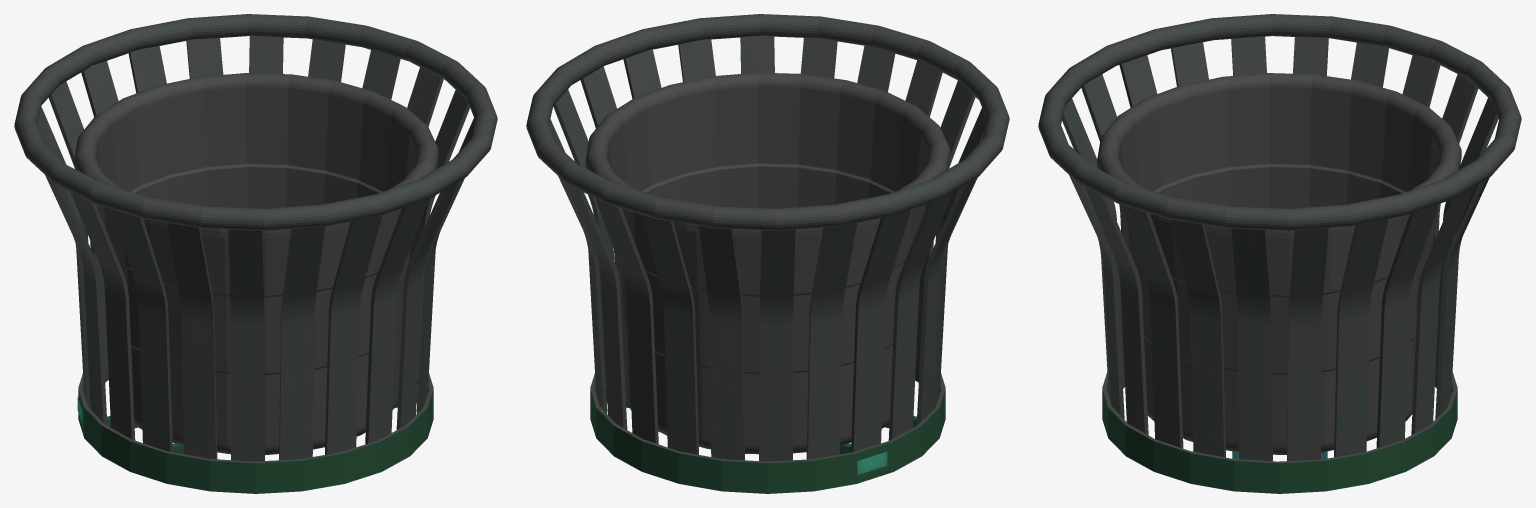
3 renders of one model, left to right at view 1: azimuth 30°, elevation 25°; view 2: azimuth 150°, elevation 25°; view 3: azimuth 270°, elevation 25°, orthographic.
Visible parts, largest first — view 1: mesh1.001_mesh1-geometry, mesh7.001_mesh7-geometry, mesh14.001_mesh14-geometry, mesh18.001_mesh18-geometry, mesh6.001_mesh6-geometry, mesh24.001_mesh24-geometry, mesh27.001_mesh27-geometry, mesh26.001_mesh26-geometry, mesh29.001_mesh29-geometry, mesh25.001_mesh25-geometry, mesh28.001_mesh28-geometry, mesh13.001_mesh13-geometry (+12 smaller); view 2: mesh1.001_mesh1-geometry, mesh7.001_mesh7-geometry, mesh14.001_mesh14-geometry, mesh11.001_mesh11-geometry, mesh17.001_mesh17-geometry, mesh9.001_mesh9-geometry, mesh4.001_mesh4-geometry, mesh16.001_mesh16-geometry, mesh20.001_mesh20-geometry, mesh13.001_mesh13-geometry, mesh10.001_mesh10-geometry, mesh25.001_mesh25-geometry (+12 smaller); view 3: mesh1.001_mesh1-geometry, mesh7.001_mesh7-geometry, mesh14.001_mesh14-geometry, mesh22.001_mesh22-geometry, mesh12.001_mesh12-geometry, mesh23.001_mesh23-geometry, mesh15.001_mesh15-geometry, mesh21.001_mesh21-geometry, mesh5.001_mesh5-geometry, mesh28.001_mesh28-geometry, mesh10.001_mesh10-geometry, mesh20.001_mesh20-geometry (+13 smaller).
Boxes of the visible parts, <box> form: mesh1.001_mesh1-geometry: <box>74,73,438,454</box>; mesh7.001_mesh7-geometry: <box>14,14,497,230</box>; mesh14.001_mesh14-geometry: <box>78,367,433,493</box>; mesh18.001_mesh18-geometry: <box>228,229,264,461</box>; mesh6.001_mesh6-geometry: <box>279,226,324,460</box>; mesh24.001_mesh24-geometry: <box>166,223,217,459</box>; mesh27.001_mesh27-geometry: <box>325,215,382,454</box>; mesh26.001_mesh26-geometry: <box>112,209,172,452</box>; mesh29.001_mesh29-geometry: <box>365,199,428,444</box>; mesh25.001_mesh25-geometry: <box>70,192,135,440</box>; mesh28.001_mesh28-geometry: <box>396,181,458,429</box>; mesh13.001_mesh13-geometry: <box>47,177,107,425</box>; mesh1.001_mesh1-geometry: <box>585,72,950,454</box>; mesh7.001_mesh7-geometry: <box>526,14,1009,230</box>; mesh14.001_mesh14-geometry: <box>590,367,945,493</box>; mesh11.001_mesh11-geometry: <box>759,229,795,461</box>; mesh17.001_mesh17-geometry: <box>698,226,744,460</box>; mesh9.001_mesh9-geometry: <box>806,223,857,459</box>; mesh4.001_mesh4-geometry: <box>641,214,698,454</box>; mesh16.001_mesh16-geometry: <box>851,209,911,452</box>; mesh20.001_mesh20-geometry: <box>595,198,658,444</box>; mesh13.001_mesh13-geometry: <box>888,192,953,440</box>; mesh10.001_mesh10-geometry: <box>565,183,627,429</box>; mesh25.001_mesh25-geometry: <box>916,178,975,425</box>; mesh1.001_mesh1-geometry: <box>1097,73,1461,454</box>; mesh7.001_mesh7-geometry: <box>1038,14,1521,230</box>; mesh14.001_mesh14-geometry: <box>1102,372,1457,493</box>; mesh22.001_mesh22-geometry: <box>1231,228,1272,461</box>; mesh12.001_mesh12-geometry: <box>1287,228,1328,460</box>; mesh23.001_mesh23-geometry: <box>1334,219,1388,457</box>; mesh15.001_mesh15-geometry: <box>1171,220,1225,457</box>; mesh21.001_mesh21-geometry: <box>1376,204,1438,448</box>; mesh5.001_mesh5-geometry: <box>1121,205,1183,448</box>; mesh28.001_mesh28-geometry: <box>1085,187,1148,435</box>; mesh10.001_mesh10-geometry: <box>1411,186,1475,434</box>; mesh20.001_mesh20-geometry: <box>1435,177,1489,419</box>.
Bounding box in the file's own units: 0.6338 × 0.4435 × 0.6338.
